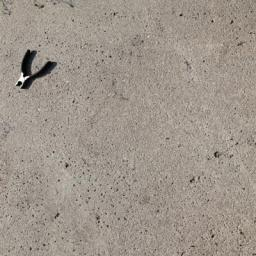FOD: (15, 49, 58, 94)
